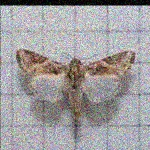Spodoptera litura: (15, 48, 135, 119)
